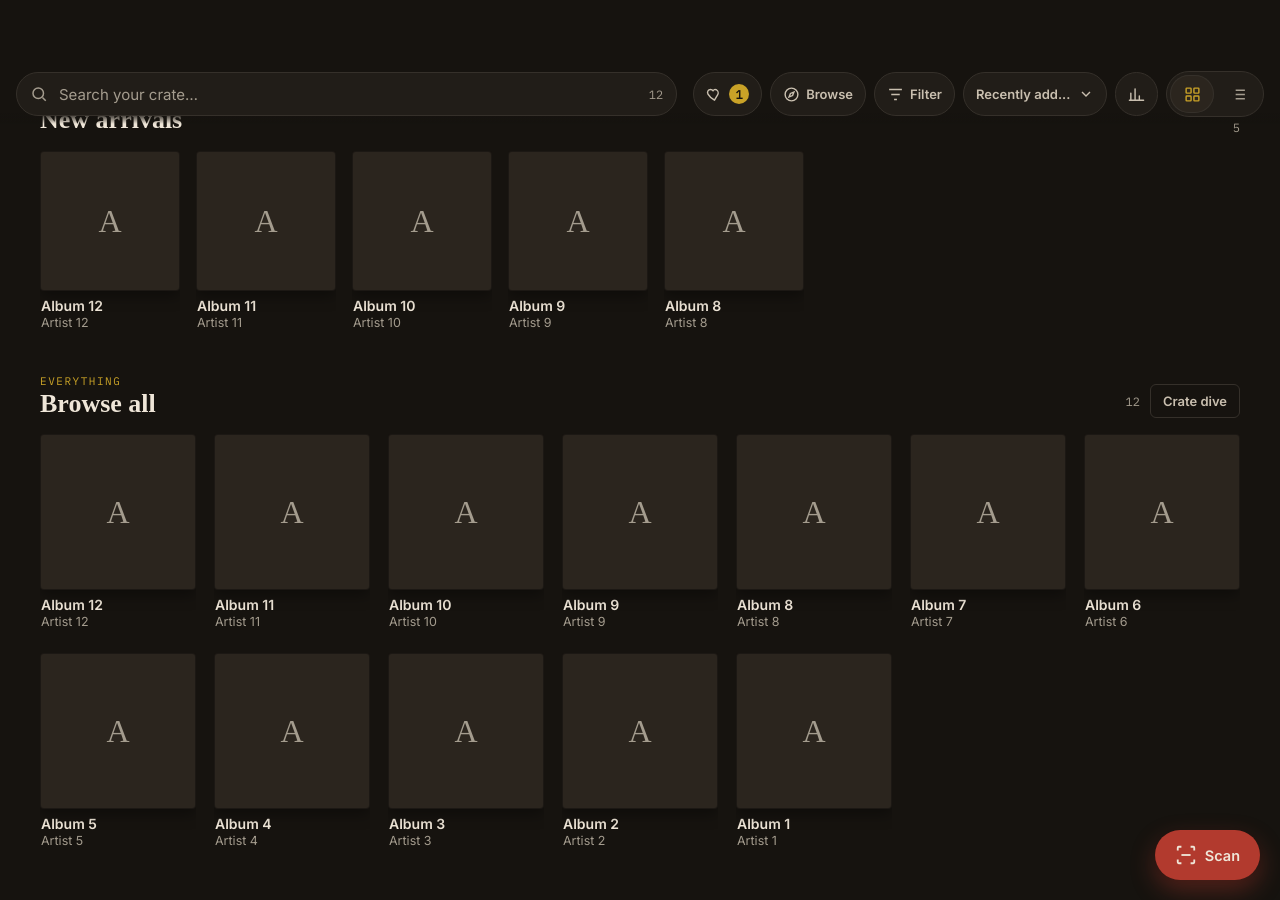
Test: CollectionView — Smart views & stats (§ Phase 5) › opens the full detail sheet when a wishlist row is tapped
The width and height of the screenshot is (1280, 900).
Expected: the heading "Browse all" is shown, [40,390,156,418]
Click the button named "Wishlist" at {"x": 728, "y": 94}, box [693,72,762,116]
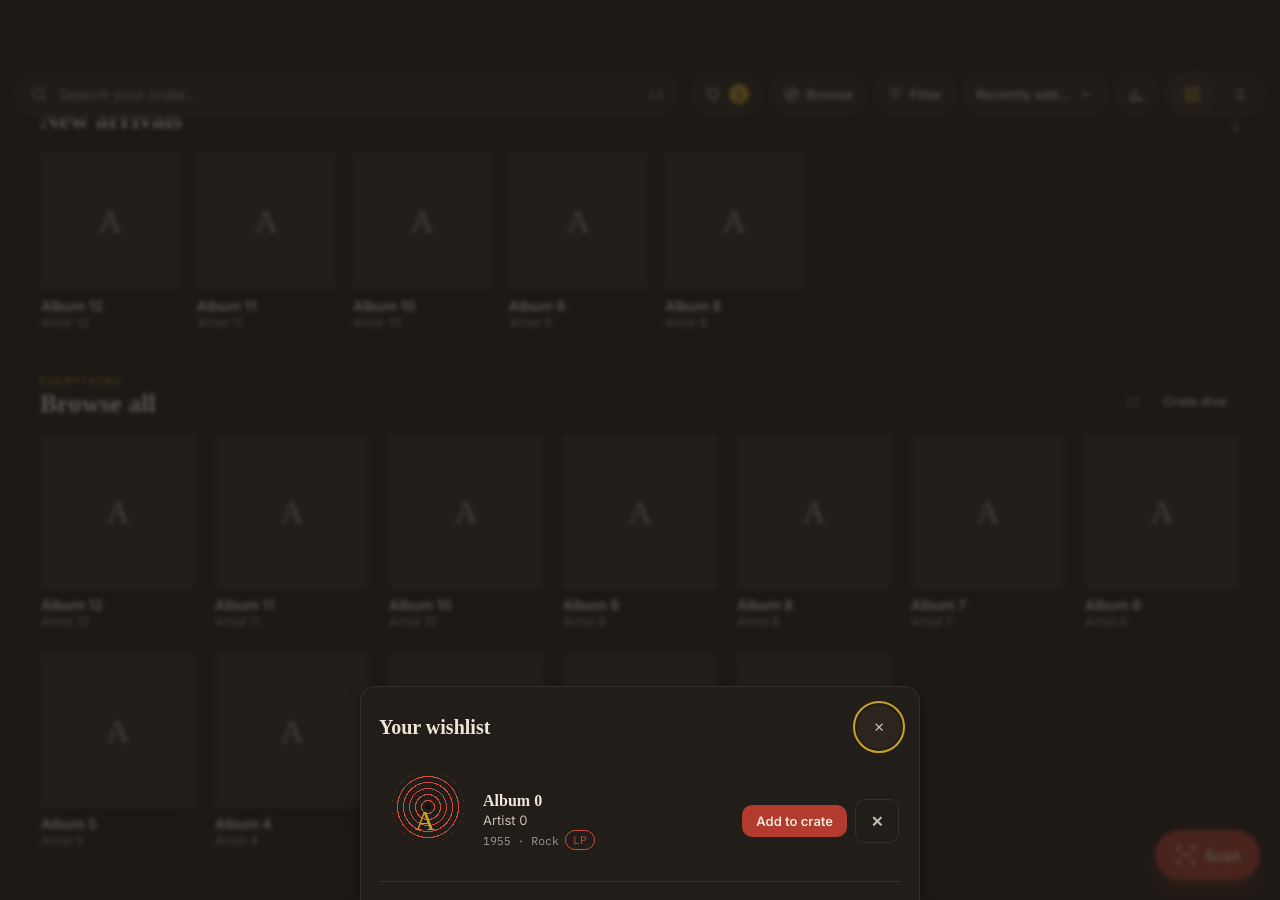
Click the button with aria-label "Open details for" at {"x": 425, "y": 821}, box [381,773,730,869]
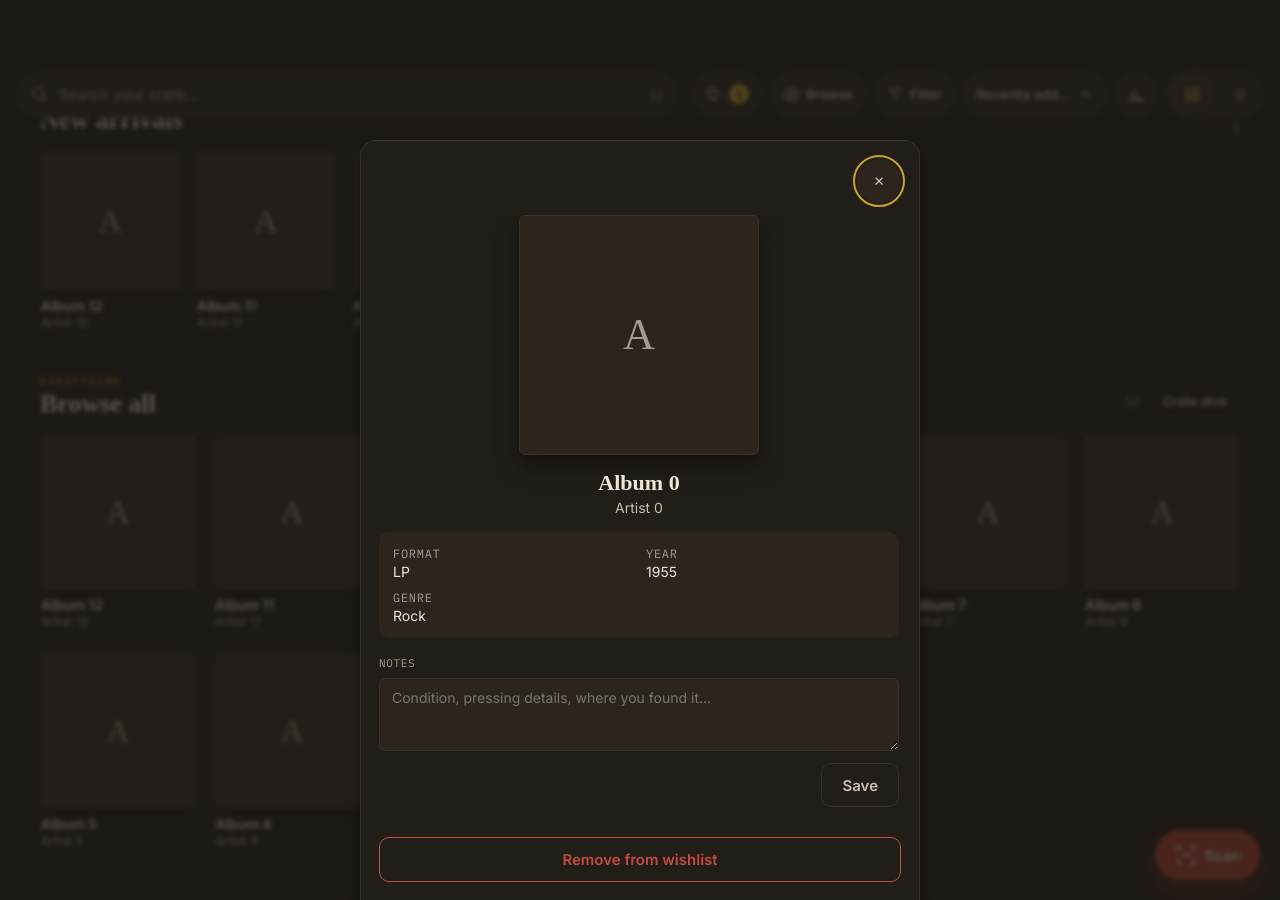
Expected: the dialog "Album 0" is shown
Expected: the heading "Your wishlist" is gone
